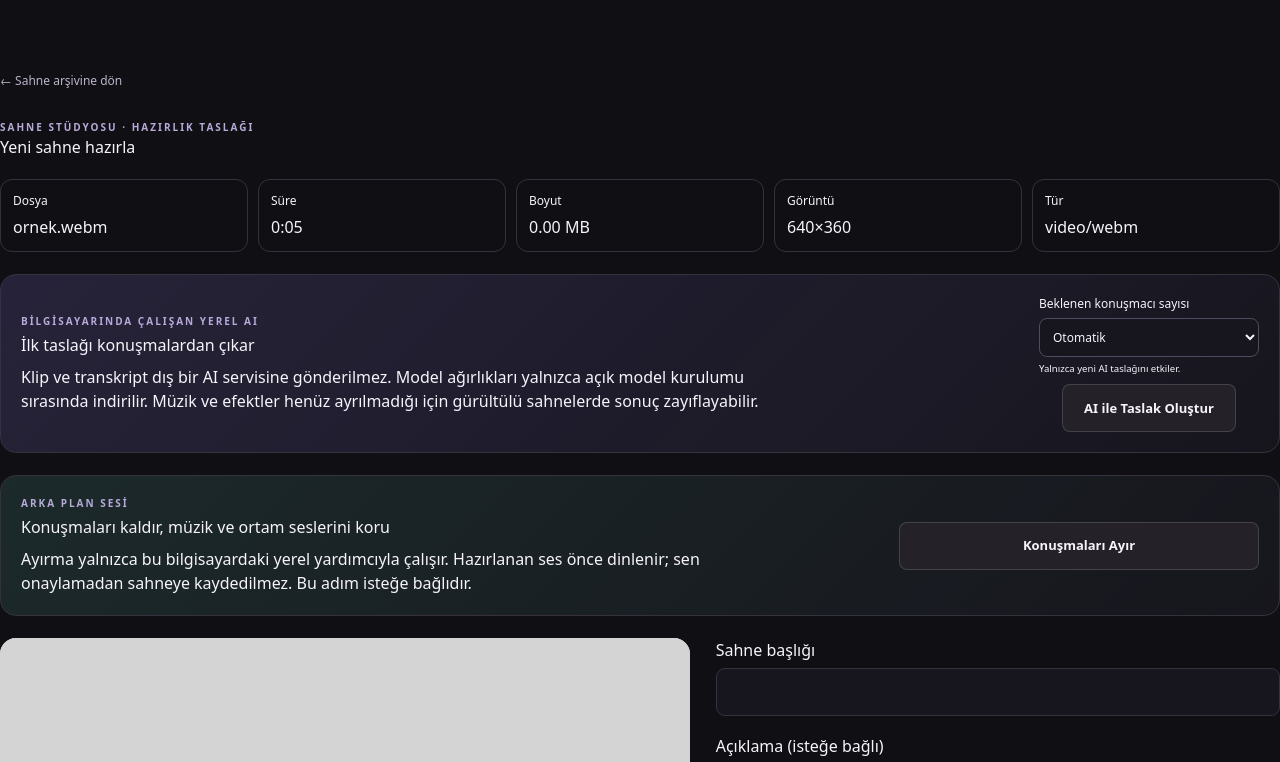
Test: Scene Studio local AI integration › previews a local dialogue-free candidate and saves it only after explicit acceptance
What coordinates should you click on to do the following:
click the button "Konuşmaları Ayır"
I would click on:
 (1079, 546)
Its box is [899, 522, 1259, 570].
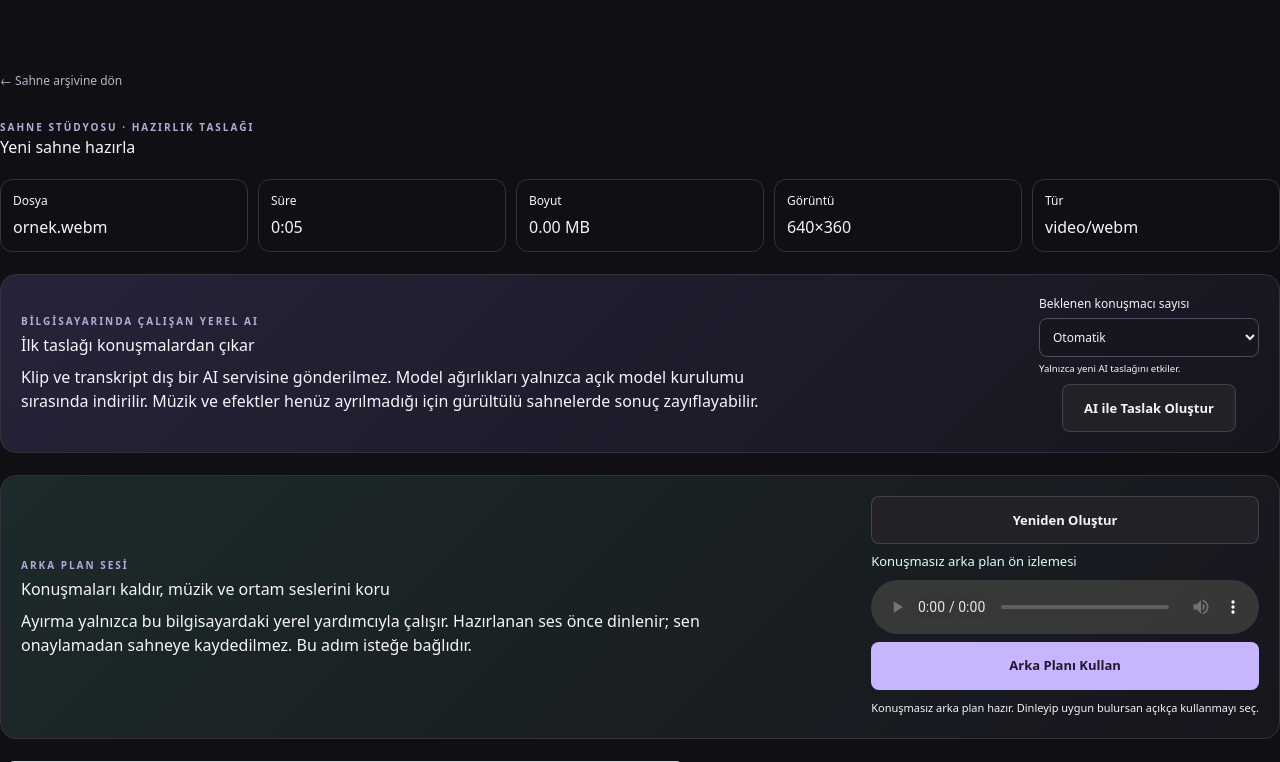
expect the element named "Konuşmasız arka plan ön izlemesi" is shown: met, box [871, 580, 1259, 634]
What coordinates should you click on to do the following:
click the button "Arka Planı Kullan"
I would click on:
 (1065, 666)
Its box is [871, 642, 1259, 690].
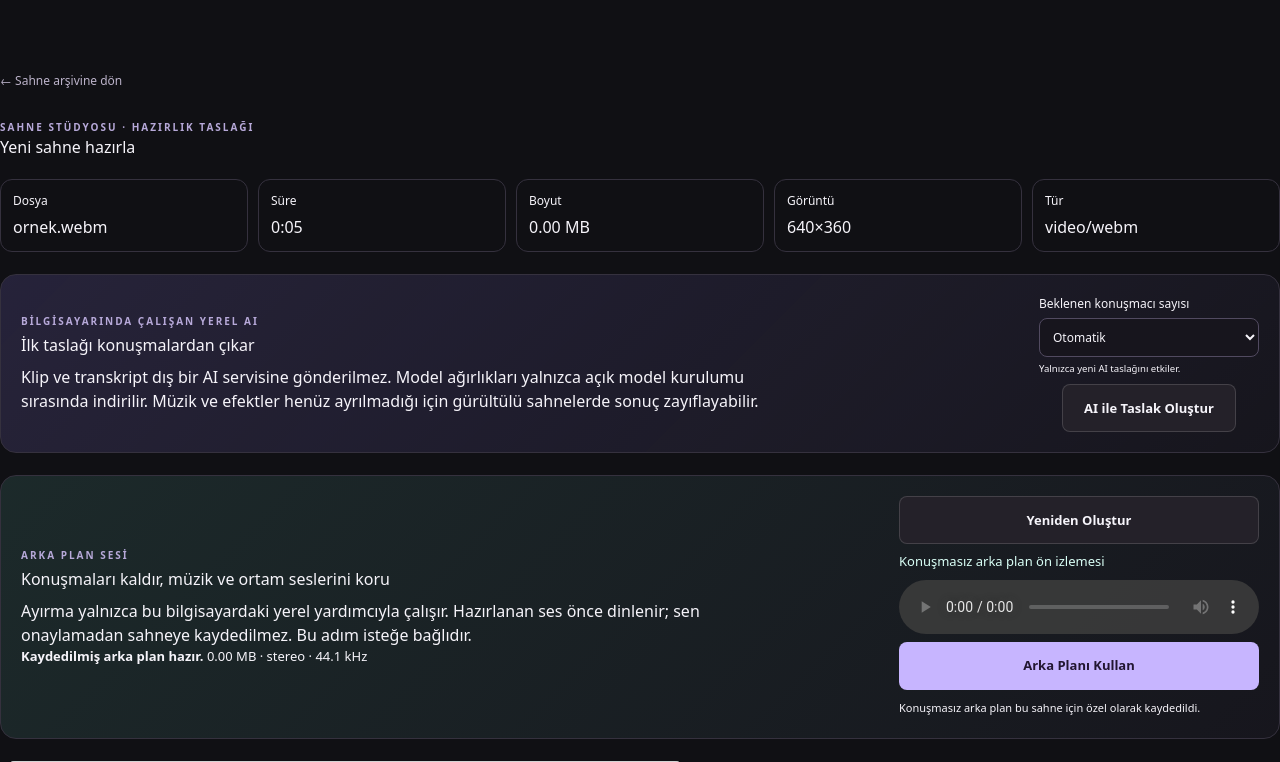
expect the text "Konuşmasız arka plan bu sahne için özel olarak kaydedildi." is shown: met, box [899, 700, 1200, 715]
